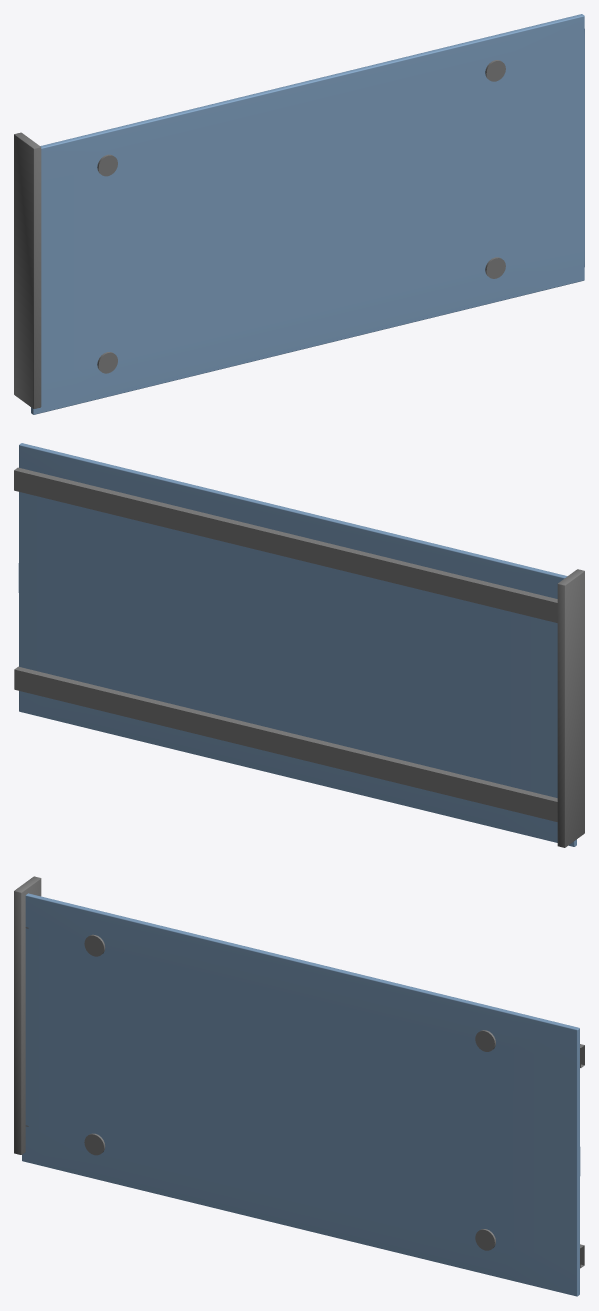
File: SM_Fence.FBX
3 views of the same model, one above another, from view 1: azimuth 30°, elevation 25°; view 2: azimuth 150°, elevation 25°; view 3: azimuth 330°, elevation 25° (orthographic).
Parts seen in each view (by area): view 1: SM_Fence; view 2: SM_Fence; view 3: SM_Fence.
Boxes of the visible parts, x1,y1,x2,y2 form: SM_Fence: (14,14,584,414); SM_Fence: (14,443,584,847); SM_Fence: (14,876,584,1296).
Bounding box in the file's own units: 200 × 93.23 × 12.59.
